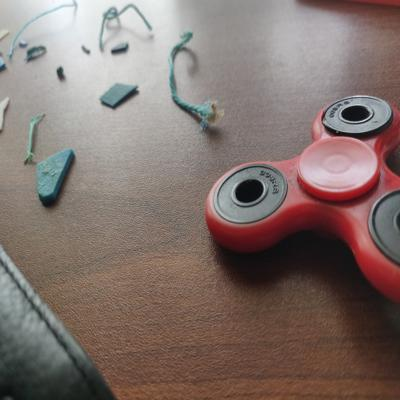plastic: (34, 150, 77, 210), (96, 80, 140, 110), (1, 94, 14, 138), (109, 40, 135, 59)
thread: (165, 25, 254, 129), (7, 1, 80, 63), (96, 1, 158, 56), (21, 107, 47, 169)
